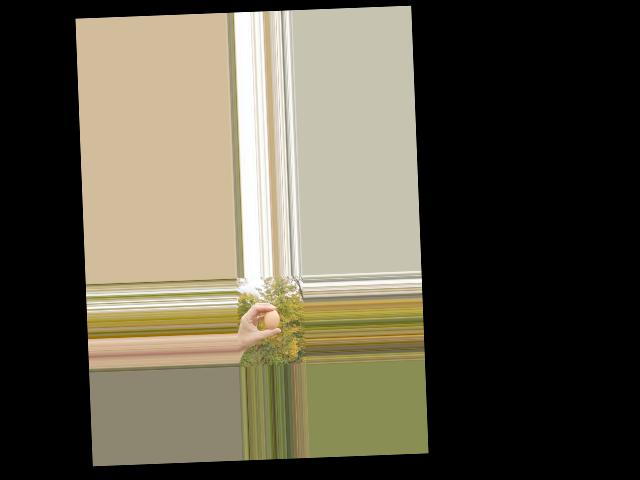egg: (264, 309, 280, 329)
